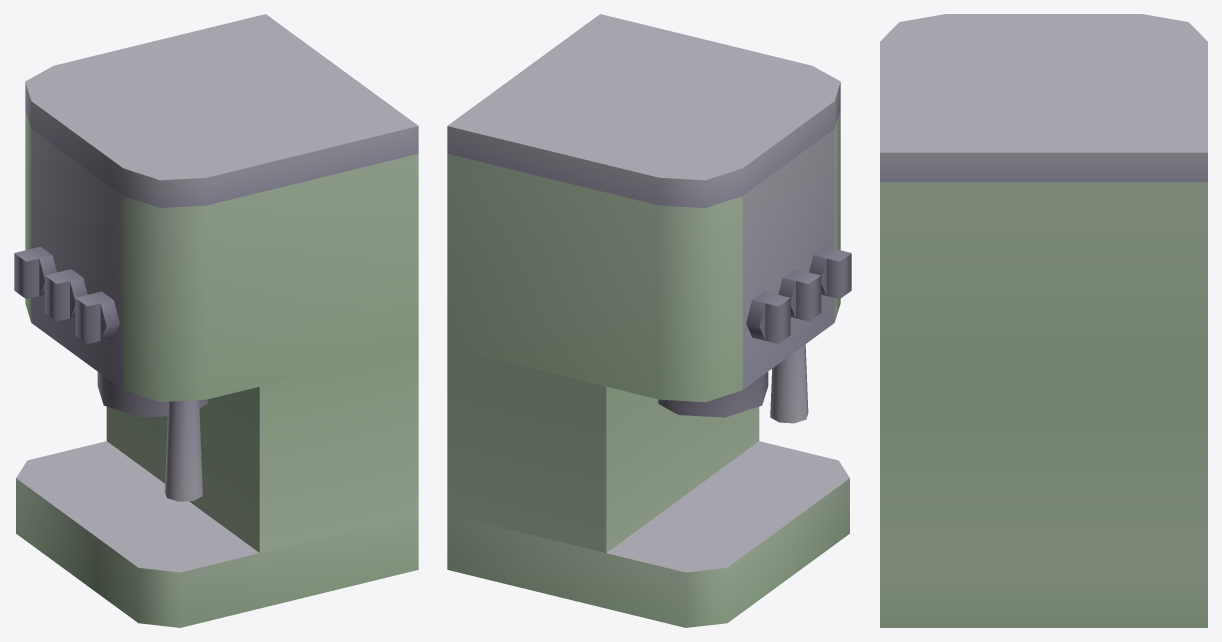
The model's file is coffee-machine-large.glb.
3 views of the same model, side by side, from view 1: azimuth 30°, elevation 25°; view 2: azimuth 150°, elevation 25°; view 3: azimuth 270°, elevation 25° (orthographic). The views are drawn at different scales.
Visible parts, largest first — view 1: coffee-machine-large; view 2: coffee-machine-large; view 3: coffee-machine-large.
Part boxes in pixels (x1,y1,x2,y2): coffee-machine-large: (14, 14, 418, 627); coffee-machine-large: (447, 14, 851, 627); coffee-machine-large: (880, 14, 1207, 627).
Bounding box in the file's own units: 0.275 × 0.4 × 0.25.
